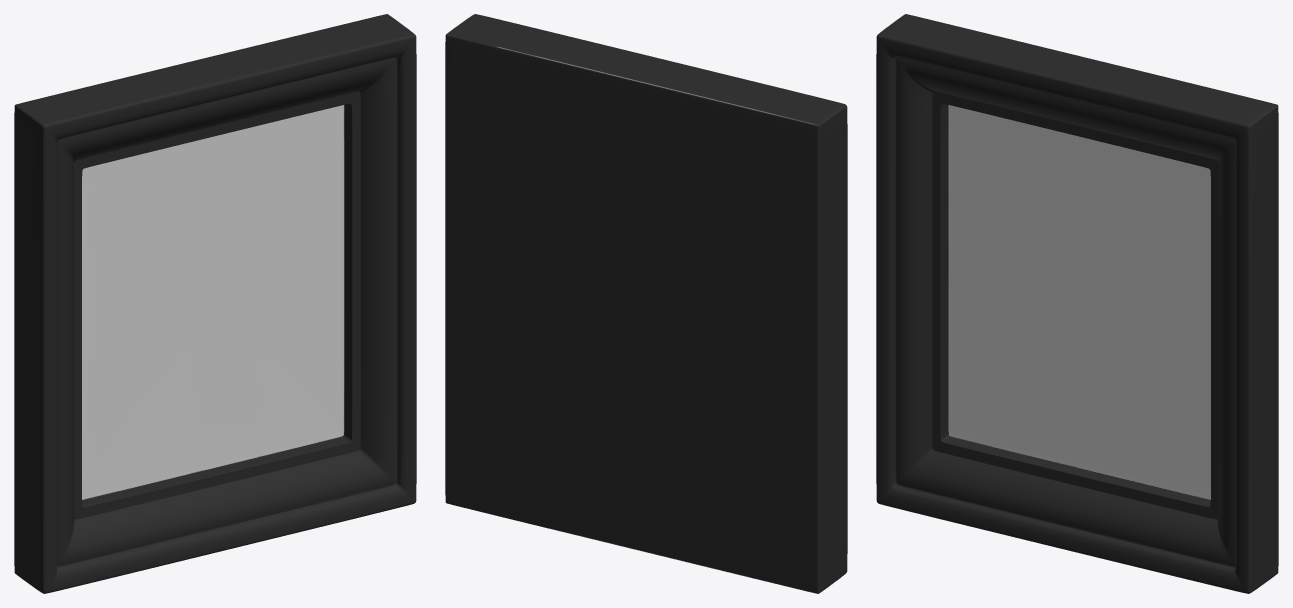
File: Mirror_011(Black).gltf
3 renders of one model, left to right at view 1: azimuth 30°, elevation 25°; view 2: azimuth 150°, elevation 25°; view 3: azimuth 330°, elevation 25°, orthographic.
Parts seen in each view (by area): view 1: Mirror_011; view 2: Mirror_011; view 3: Mirror_011.
Boxes of the visible parts, x1=… form: Mirror_011: x1=14, y1=14, x2=416, y2=593; Mirror_011: x1=445, y1=14, x2=847, y2=593; Mirror_011: x1=876, y1=14, x2=1278, y2=593.
Bounding box in the file's own units: 0.661 × 0.7926 × 0.092.
Materials: 1 (1 with a texture image).
